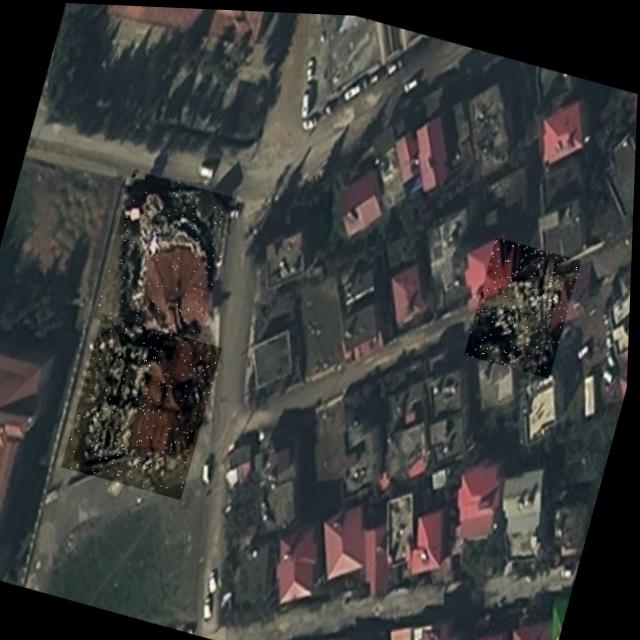Rubble: (64, 312, 225, 499), (94, 167, 238, 345), (466, 231, 583, 374)
